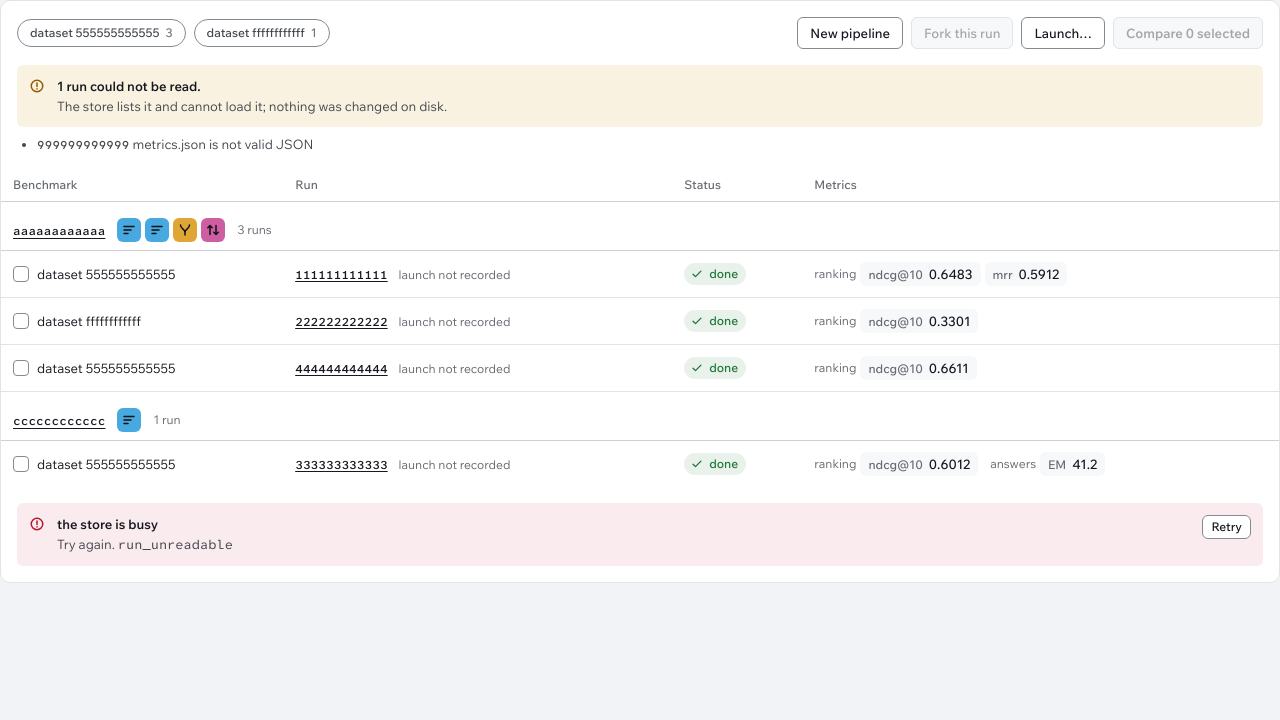
Test: the selection › keeps the table when a re-read fails, saying so inline with Retry
Check: the message "the store is busy Try again. run_unreadable Retry" is shown, box x1=17 y1=503 x2=1263 y2=566
Click the button "Retry".
click(1227, 527)  # box x1=1202 y1=515 x2=1251 y2=539
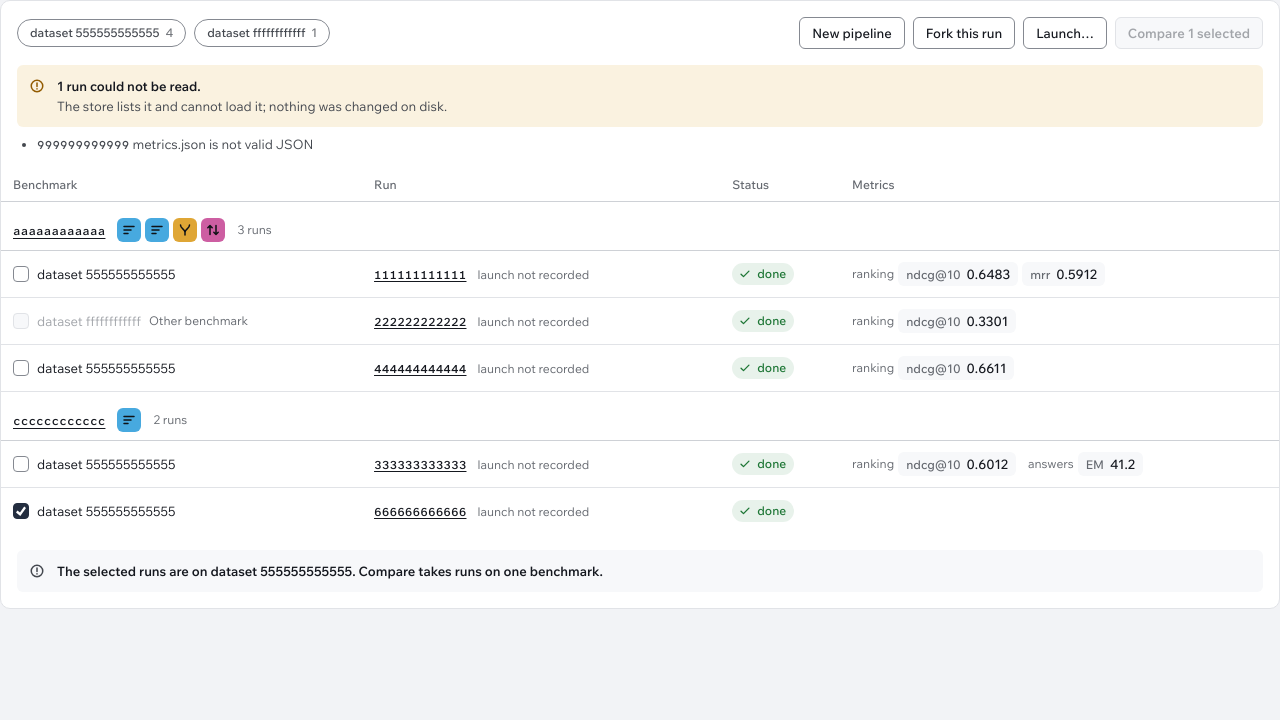
Check: the message "the store is busy Try again. run_unreadable Retry" is gone
